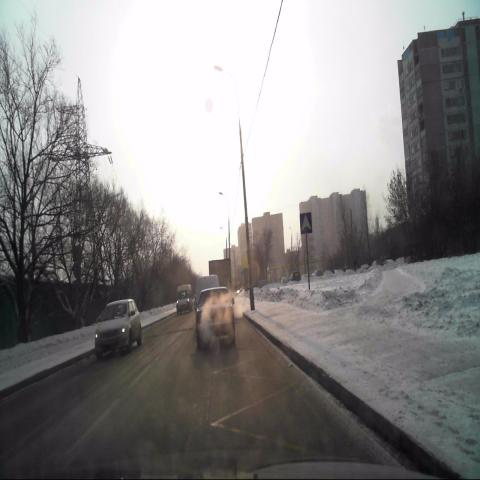5_20: (300, 212, 312, 233)
